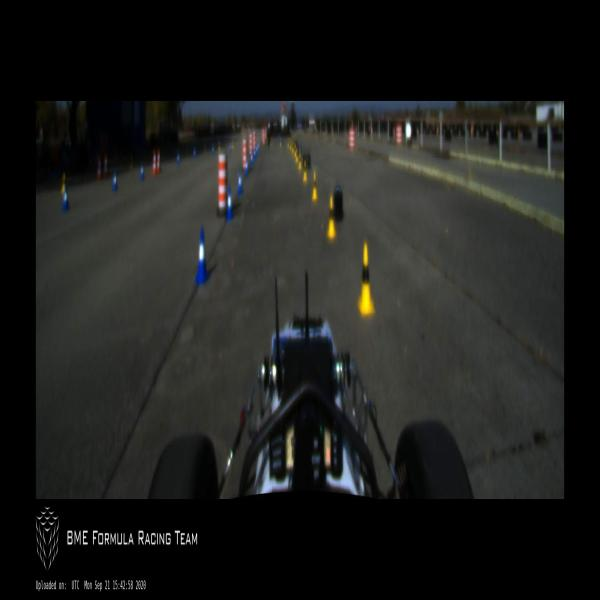blue_cone: (194, 228, 210, 283), (226, 188, 233, 221), (63, 186, 69, 210), (112, 172, 118, 192), (238, 170, 242, 196), (140, 163, 144, 180), (176, 152, 180, 165), (250, 152, 253, 167), (193, 147, 196, 158), (246, 160, 248, 176), (229, 142, 231, 153), (212, 144, 214, 154), (254, 149, 256, 159), (257, 144, 259, 152), (256, 146, 257, 154)
large_orange_cone: (96, 156, 102, 182), (103, 156, 108, 179), (152, 150, 156, 176), (156, 150, 160, 174)
yellow_cone: (357, 242, 374, 313), (326, 195, 336, 238), (312, 172, 318, 200), (303, 162, 307, 182), (61, 174, 64, 193), (298, 154, 301, 169), (296, 149, 298, 163), (290, 139, 292, 151), (292, 143, 294, 154), (294, 146, 296, 156), (287, 138, 289, 148), (280, 137, 282, 147), (232, 139, 234, 149), (218, 141, 220, 150), (270, 138, 272, 146), (204, 143, 205, 152)
